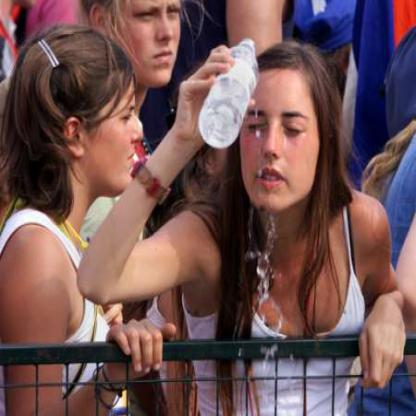face: (236, 44, 326, 216), (78, 34, 154, 198), (109, 1, 195, 91)
